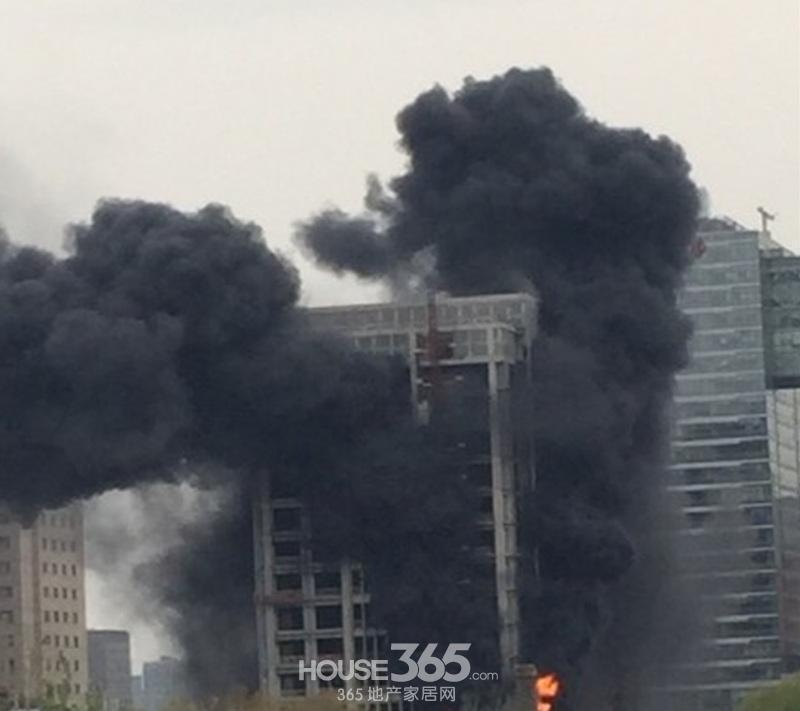fire: (530, 669, 563, 710)
